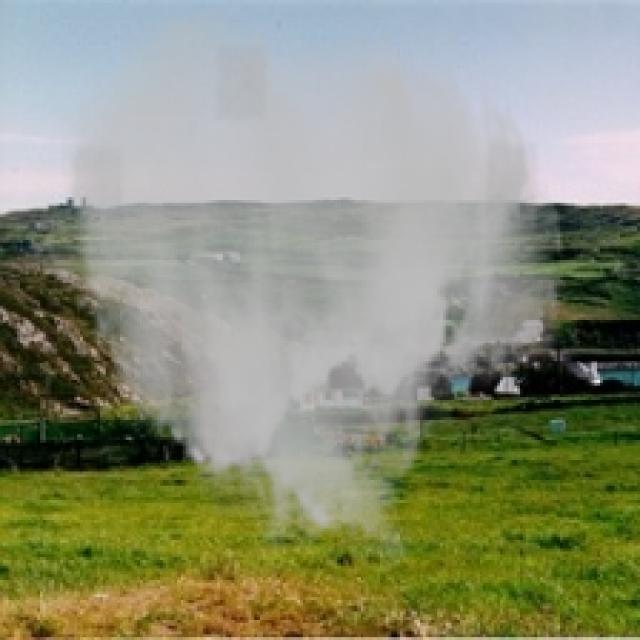Smoke: (29, 2, 568, 572)
